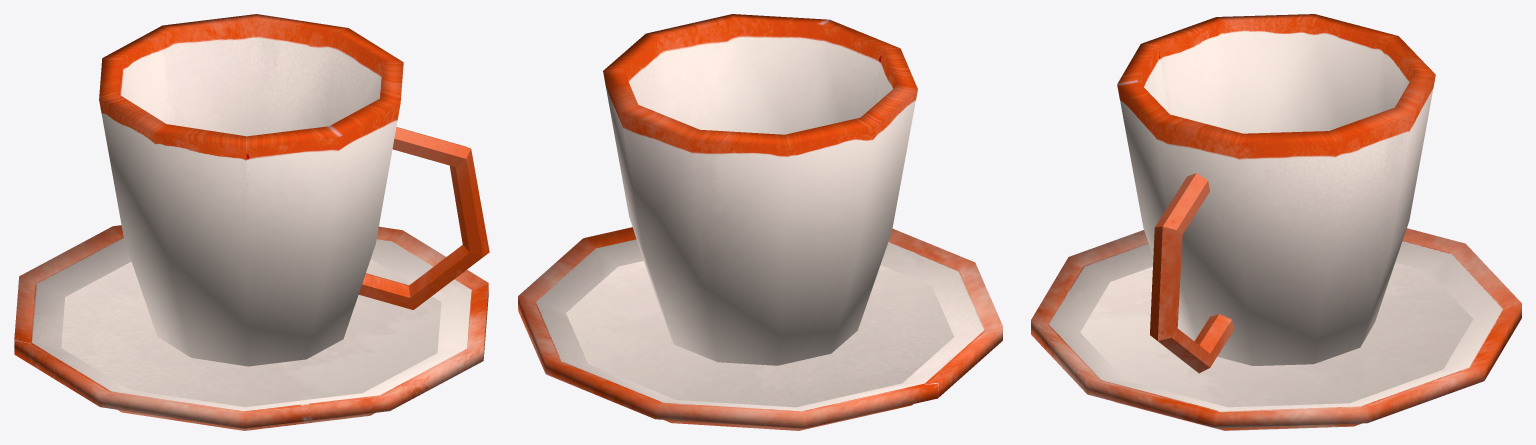
The model's file is 03-tasseceramique-model.glb.
3 renders of one model, left to right at view 1: azimuth 30°, elevation 25°; view 2: azimuth 150°, elevation 25°; view 3: azimuth 270°, elevation 25°, orthographic.
Parts seen in each view (by area): view 1: 03-tasseceramique-model; view 2: 03-tasseceramique-model; view 3: 03-tasseceramique-model.
Part boxes in pixels (<box>): 03-tasseceramique-model: <box>14,14,489,430</box>; 03-tasseceramique-model: <box>518,14,1002,430</box>; 03-tasseceramique-model: <box>1031,14,1521,430</box>.
Bounding box in the file's own units: 3.01 × 1.96 × 3.07.
1 material, 1 textured.
